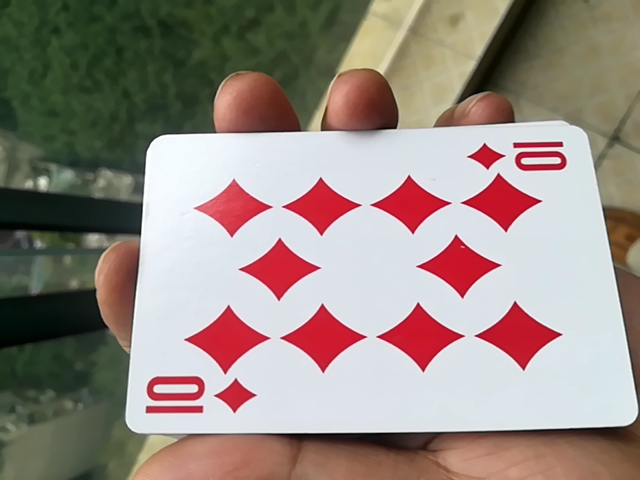fk 10: (115, 127, 632, 450)
